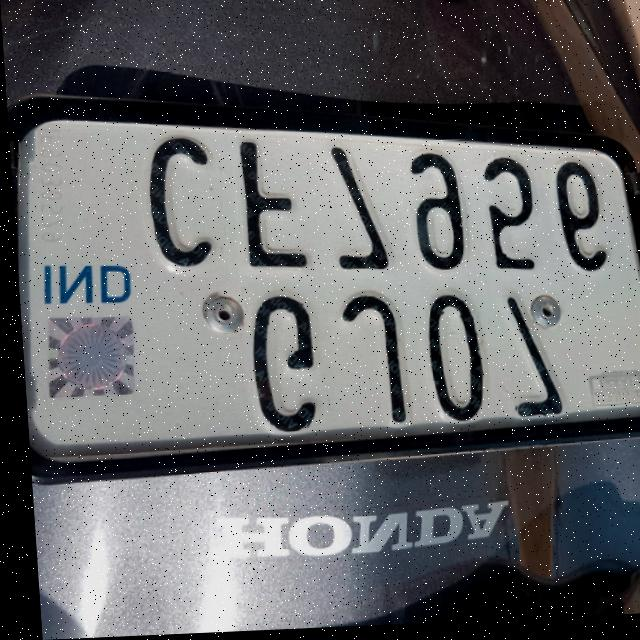plate: (5, 68, 640, 490)
